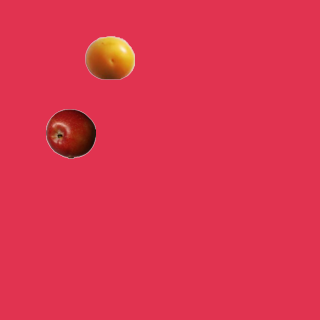Apple Braeburn: (45, 108, 95, 158)
Cherry Wax Yellow: (84, 32, 134, 82)
